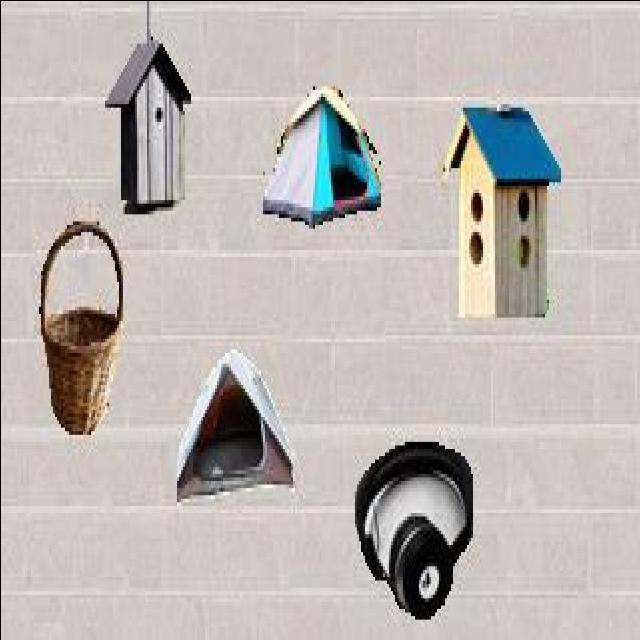Other Objects: (354, 437, 472, 617), (38, 218, 125, 435)
